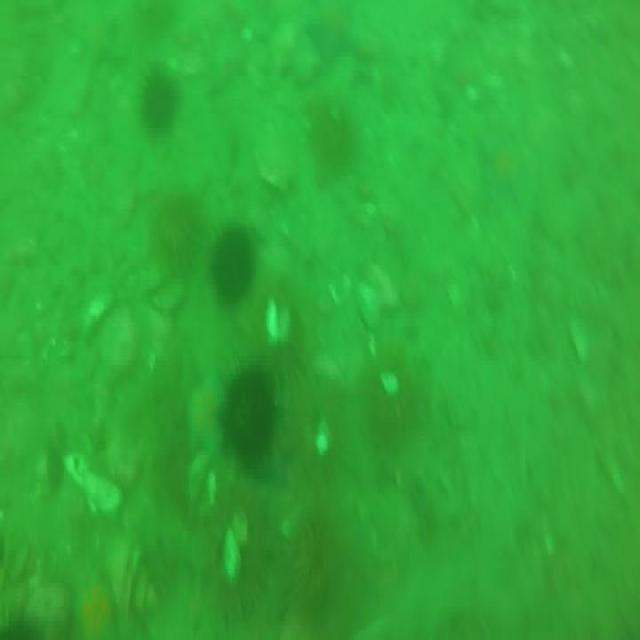echinus: (290, 510, 346, 620), (223, 362, 275, 463), (364, 354, 409, 452), (150, 185, 198, 273), (207, 229, 255, 304), (133, 68, 175, 139)
scallop: (187, 449, 217, 518), (222, 507, 248, 582), (354, 278, 380, 327), (264, 300, 292, 343), (86, 292, 108, 327), (314, 423, 332, 460)
starfish: (69, 569, 119, 640)
